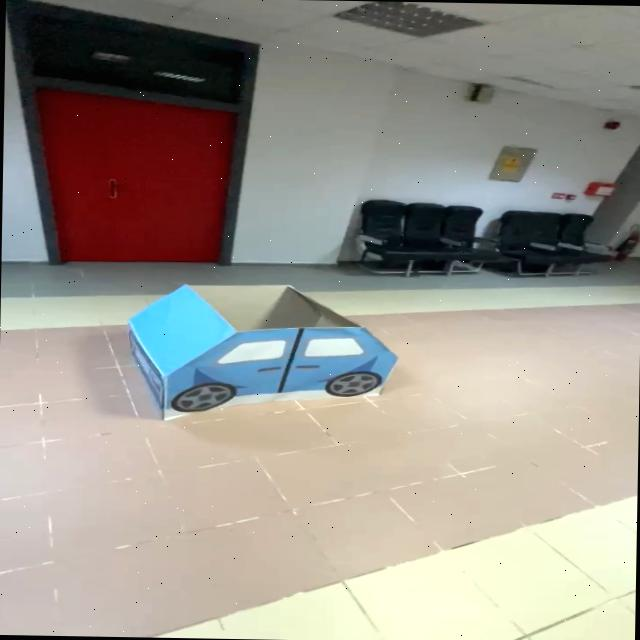blue_car: (71, 275, 428, 439)
